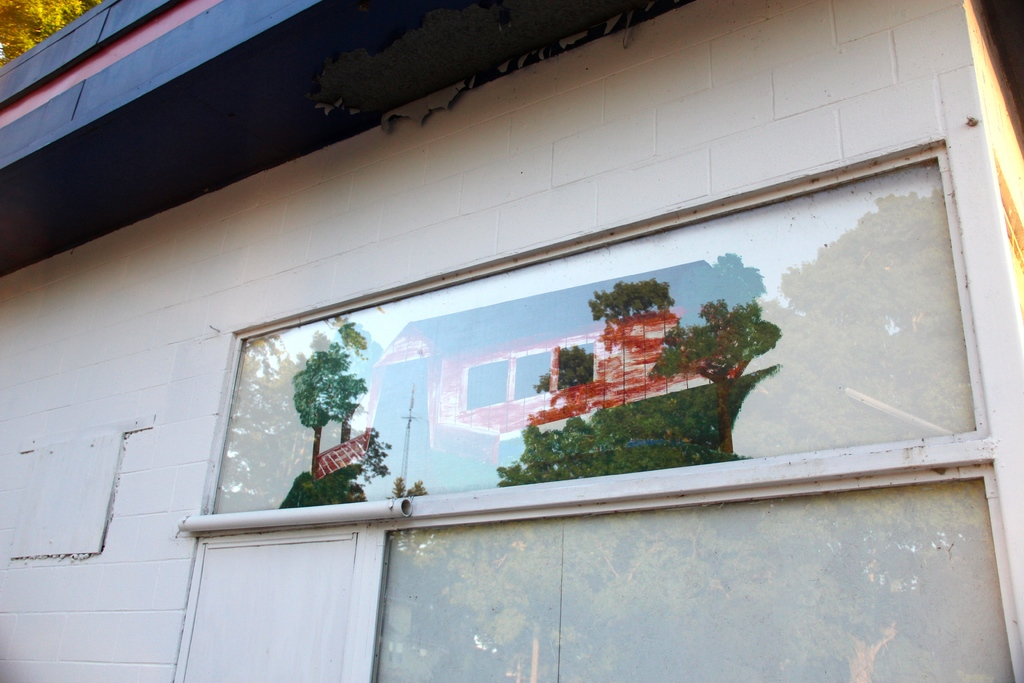Window: (372, 457, 1023, 682), (463, 359, 508, 414), (515, 348, 554, 399), (560, 347, 591, 388)
